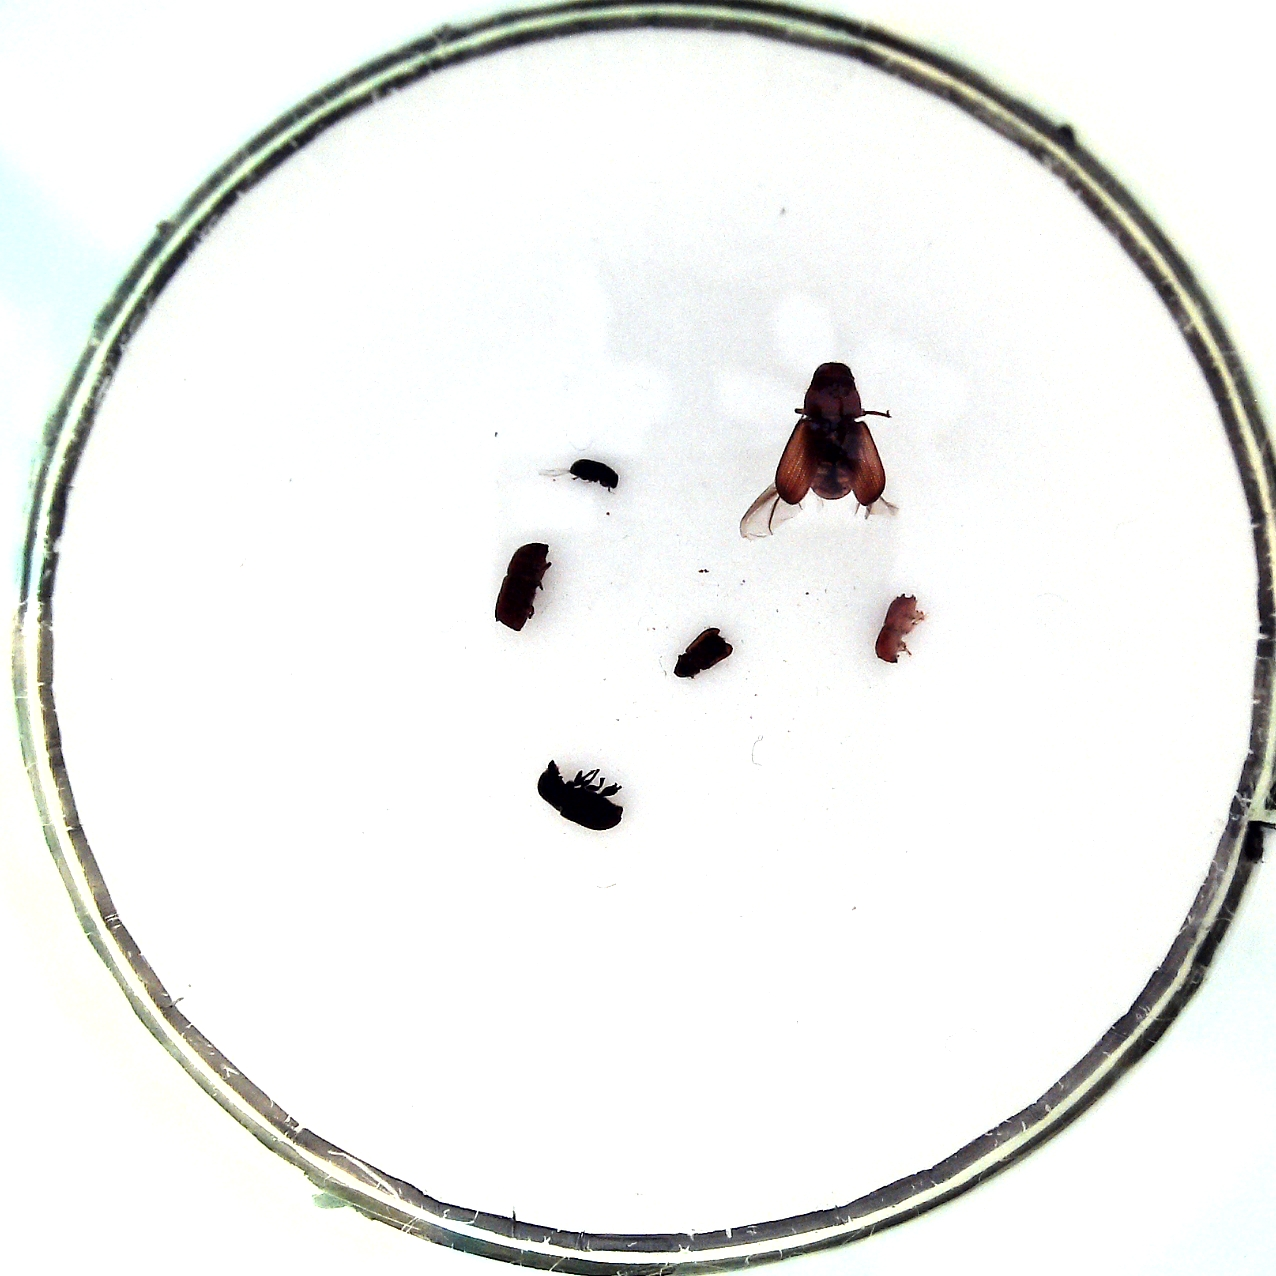Leconte: (775, 362, 885, 505)
acuminatus: (570, 460, 619, 490)
armandi: (538, 760, 623, 830)
coleoptera: (874, 592, 918, 664), (674, 627, 734, 678)
linnaeus: (494, 542, 550, 633)
